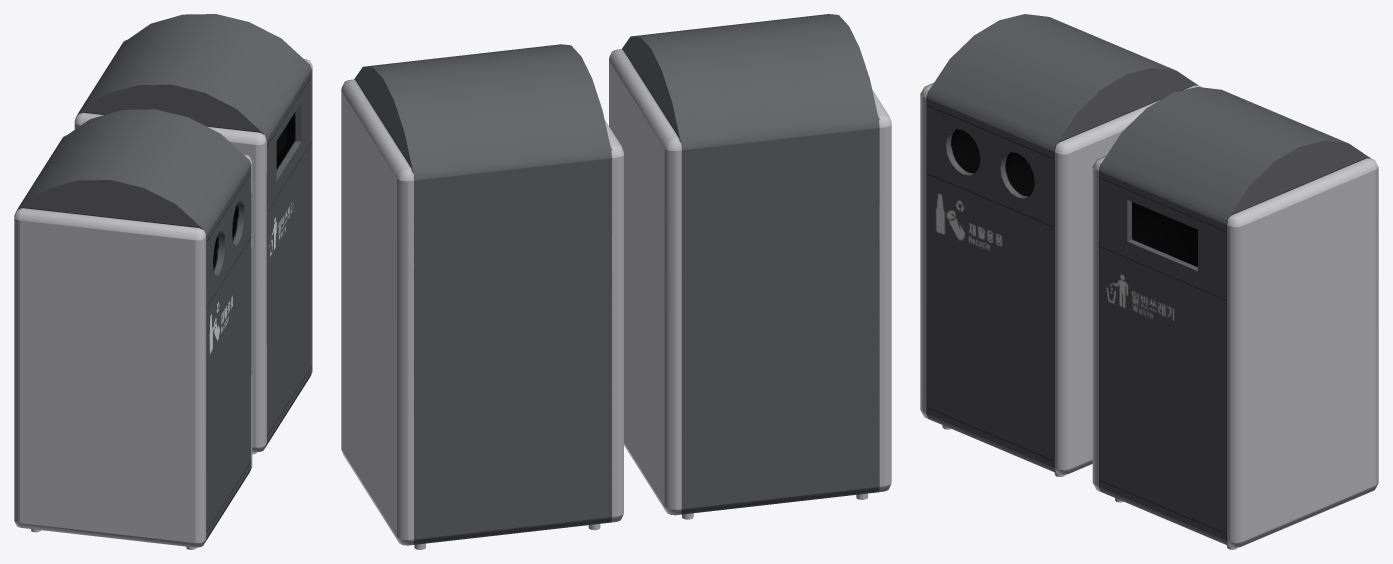
The model's file is trahbox.fbx.
3 renders of one model, left to right at view 1: azimuth 30°, elevation 25°; view 2: azimuth 150°, elevation 25°; view 3: azimuth 270°, elevation 25°, orthographic. The views are drawn at different scales.
Visible parts, largest first — view 1: trashbox_001, trashbox_002; view 2: trashbox_002, trashbox_001; view 3: trashbox_002, trashbox_001.
Boxes of the visible parts, box(x1,y1,x2,y2) form: trashbox_001: box(14, 109, 252, 549); trashbox_002: box(74, 14, 312, 454); trashbox_002: box(341, 44, 623, 549); trashbox_001: box(609, 14, 891, 519); trashbox_002: box(1092, 87, 1378, 549); trashbox_001: box(920, 14, 1201, 476).
Size of the model in its own units: 113 by 103 by 113.
